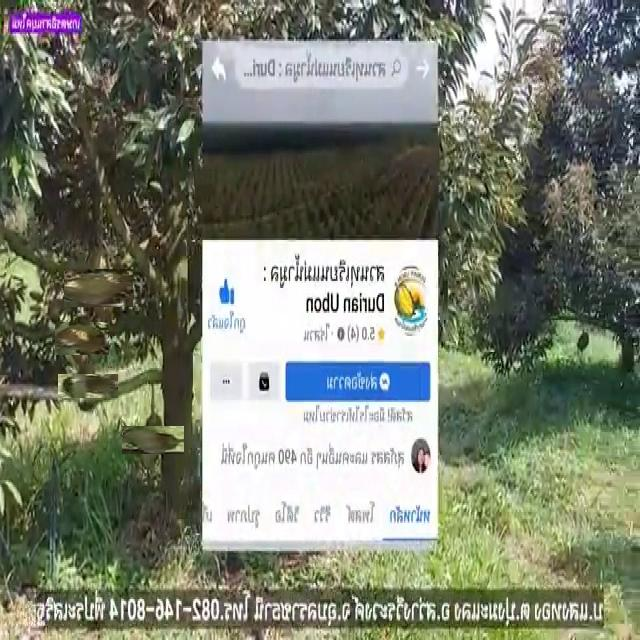durian: (72, 262, 126, 316), (130, 417, 175, 462), (60, 316, 104, 361), (66, 365, 109, 407)
